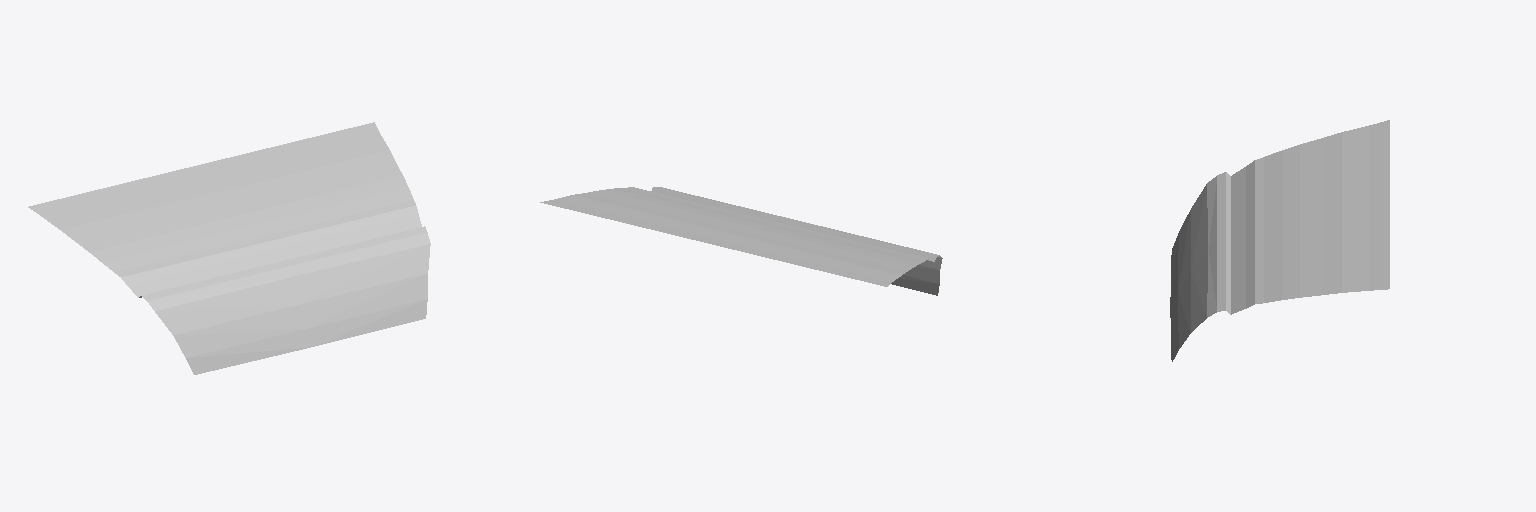
The model's file is hood.obj.
3 renders of one model, left to right at view 1: azimuth 30°, elevation 25°; view 2: azimuth 150°, elevation 25°; view 3: azimuth 270°, elevation 25°, orthographic.
Parts seen in each view (by area): view 1: maska(czerwony)_Plane.000; view 2: maska(czerwony)_Plane.000; view 3: maska(czerwony)_Plane.000.
Part boxes in pixels (left/top/right/bottom): maska(czerwony)_Plane.000: left=28, top=122, right=430, bottom=374; maska(czerwony)_Plane.000: left=540, top=187, right=942, bottom=295; maska(czerwony)_Plane.000: left=1170, top=120, right=1389, bottom=361.
Bounding box in the file's own units: 11.98 × 3.39 × 6.56.